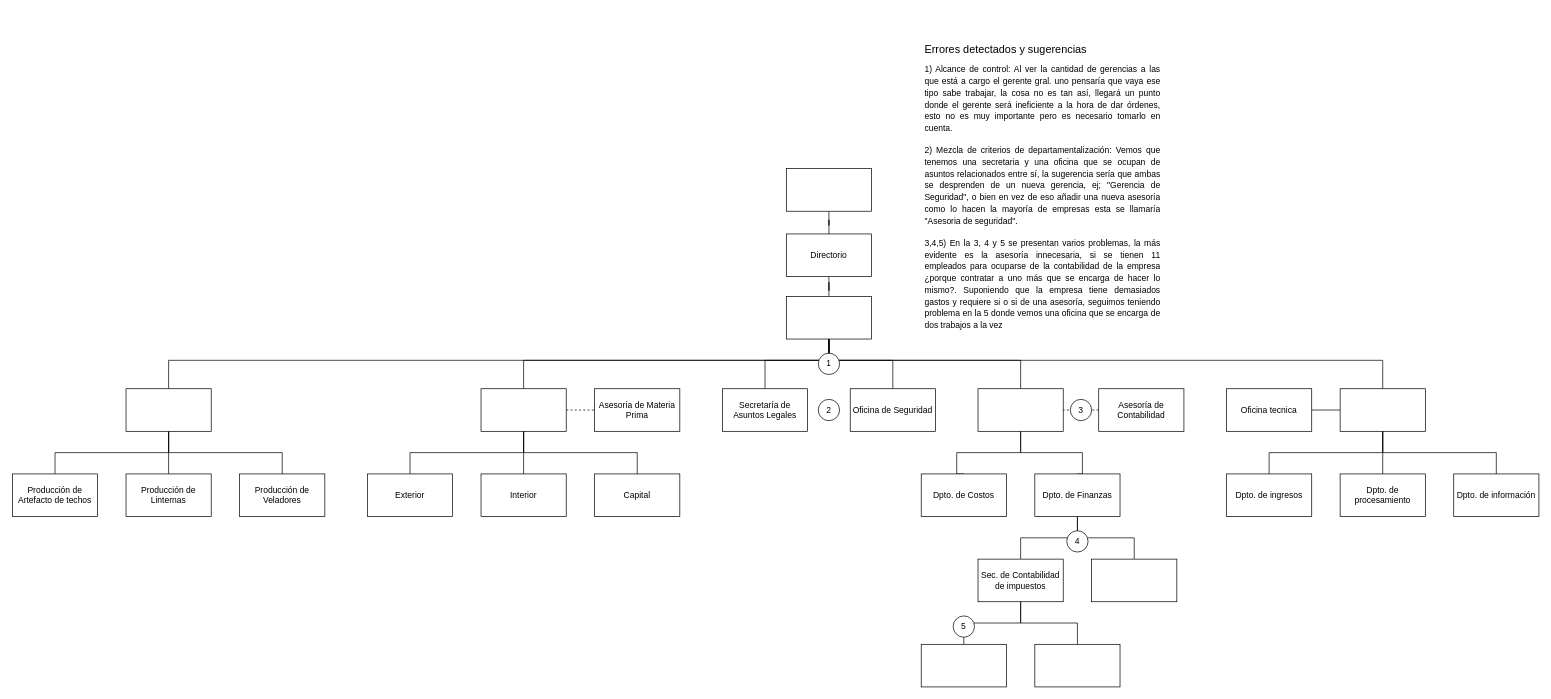
The diagram is 1551 pixels wide and 699 high, and some of its shapes have lost their labels. Each missing label, with the centre of its shape:
"AGA" belongs at (829,189).
"Gerencia Comercial" belongs at (523,409).
"Gerencia de Administración" belongs at (1020,409).
"Gerencia de Producción" belongs at (168,409).
"Gerencia de Sistemas" belongs at (1382,409).
"Gerente General" belongs at (829,317).
"Oficina de gastos secundarios" belongs at (1077,665).
"Oficina de materia prima y mano de obra" belongs at (963,665).
"Sec. Contabilidad Costos" belongs at (1134,580).
